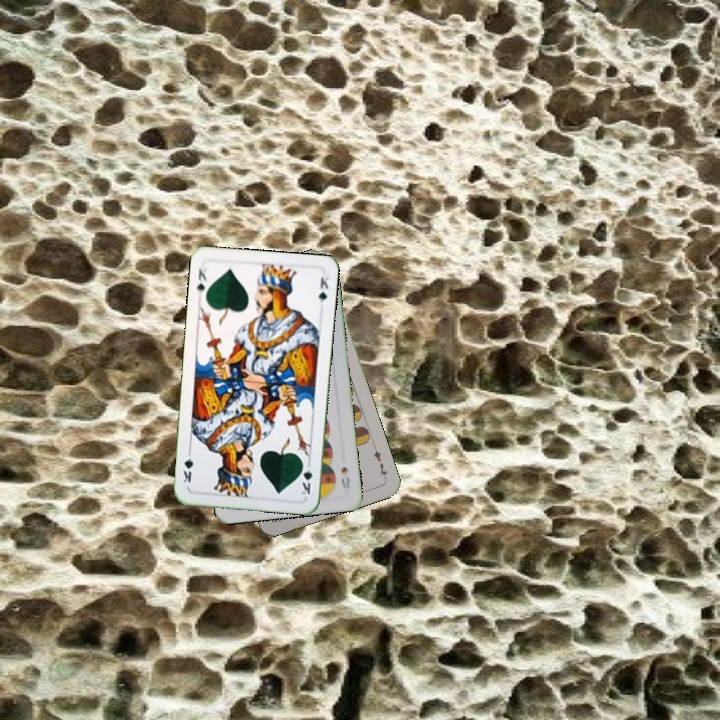E7: (370, 443, 390, 482)
GK: (297, 458, 315, 497), (193, 261, 209, 297)
S8: (337, 463, 352, 491)
